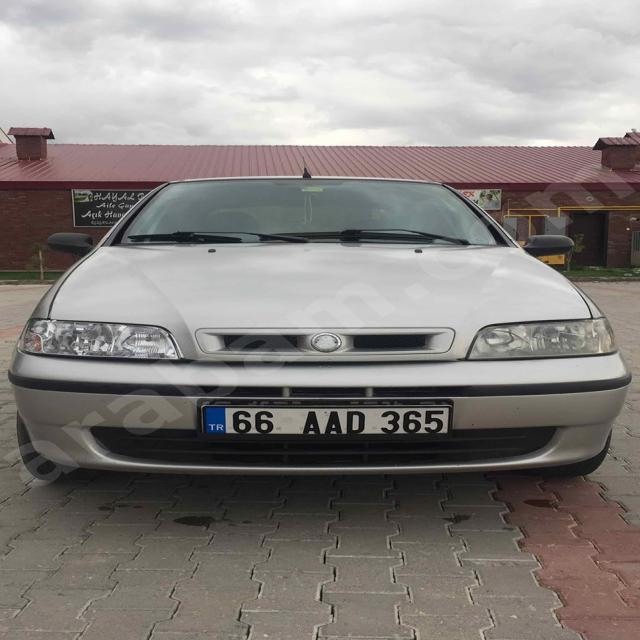license_plate: (201, 404, 450, 435)
